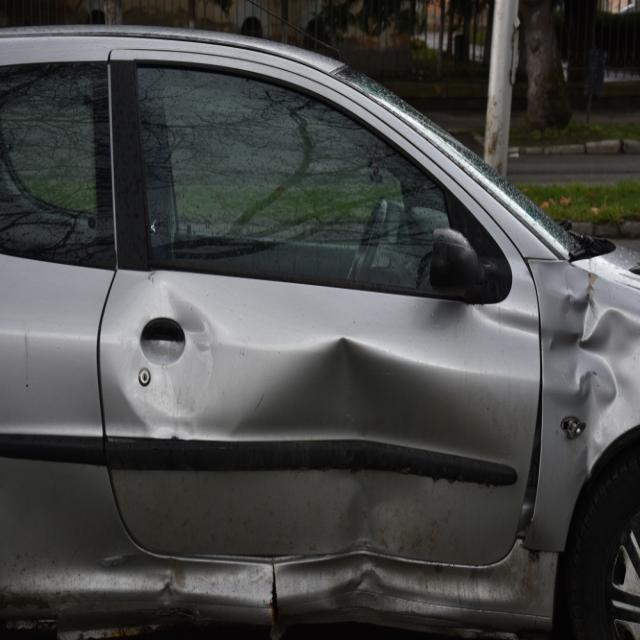Cabossage: (242, 330, 544, 616), (106, 285, 214, 437), (547, 284, 640, 446)
Dechirure: (265, 552, 285, 624)
Rayure: (98, 548, 146, 571)
